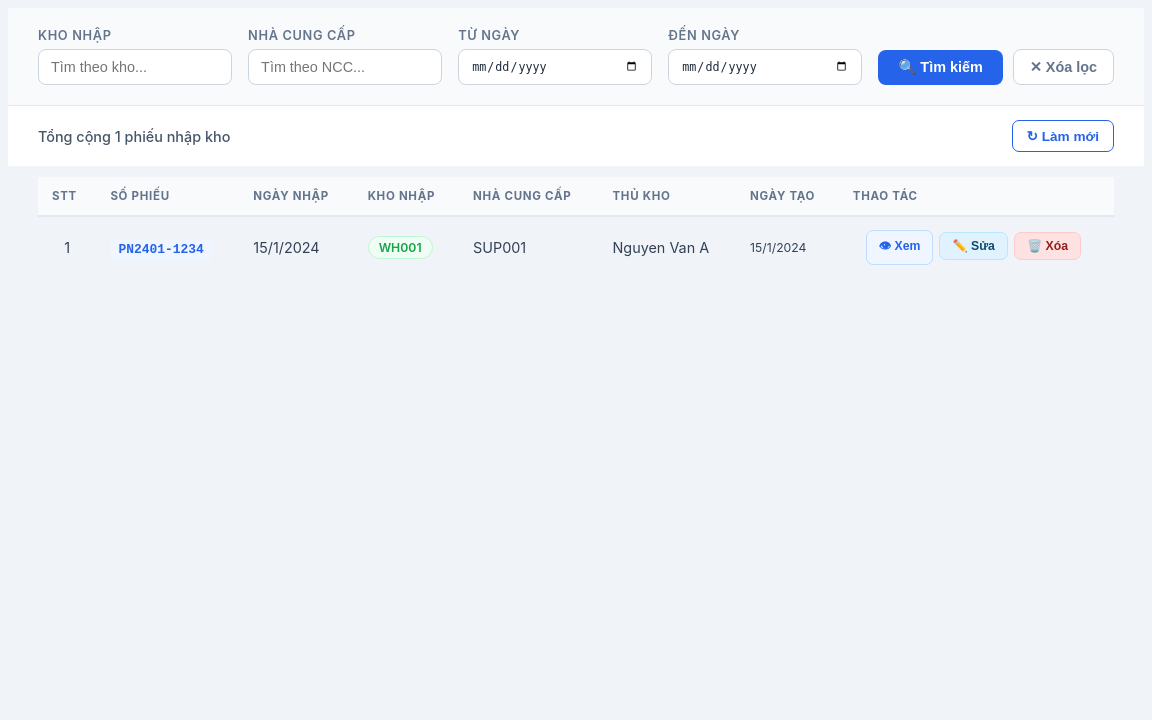
it: ReceiptList › renders the receipt list and opens the detail modal
expect the text "PN2401-1234" is shown: met, box [110, 238, 212, 260]
What coordinates should you click on to do the following:
click the button "👁 Xem"
I would click on:
 (900, 248)
Its box is [866, 230, 933, 265].
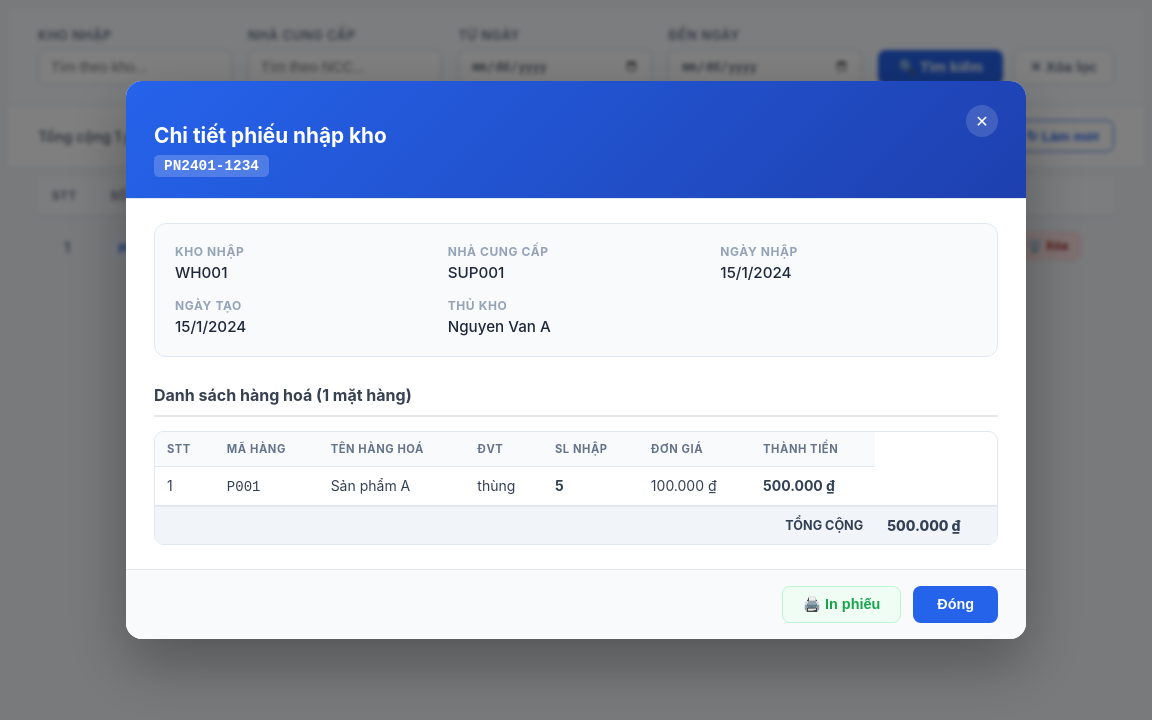
expect the heading "Chi tiết phiếu nhập kho" is shown: met, box [154, 123, 387, 148]
expect the text "Sản phẩm A" is shown: met, box [319, 466, 465, 506]
expect the text "P001" is shown: met, box [227, 479, 260, 495]
